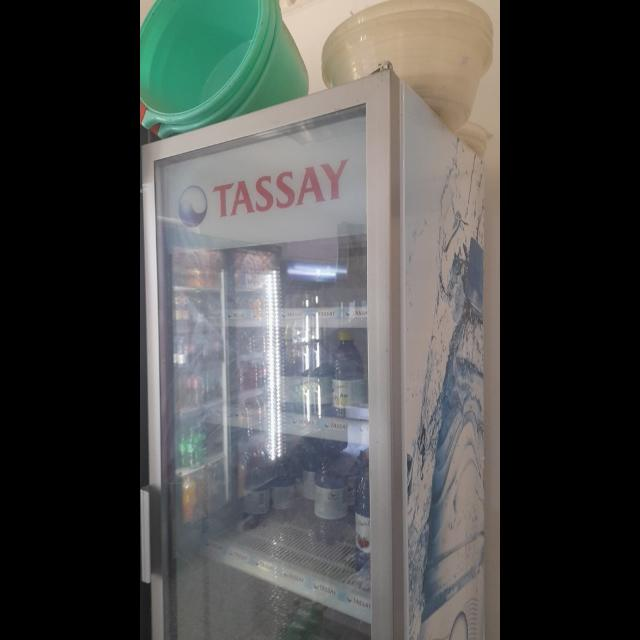Cooling-Display: (140, 69, 402, 639)
